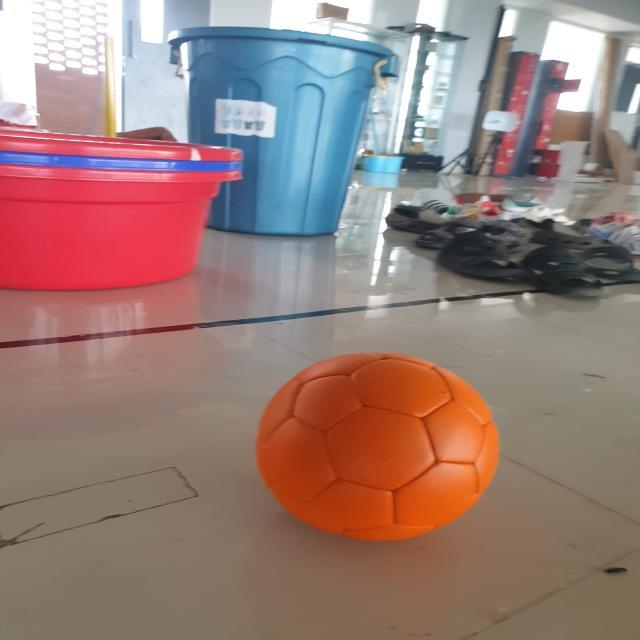bola: (250, 351, 500, 544)
